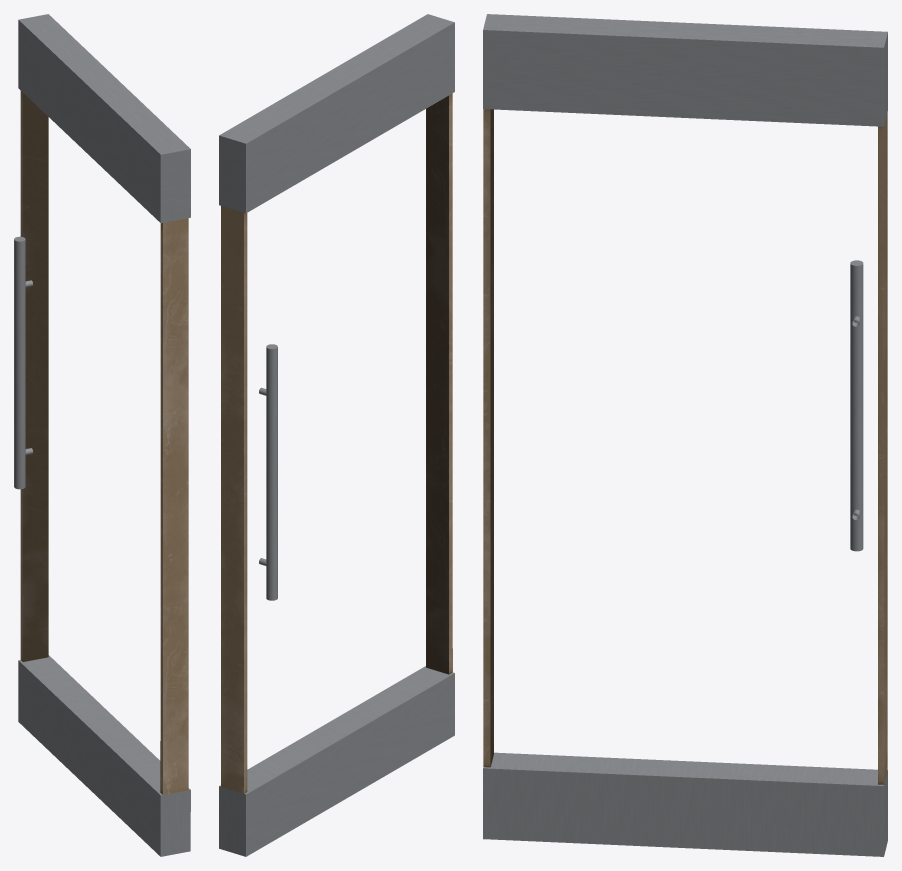
Rendered from SM_105_Door_11_2_5.fbx.
3 views of the same model, side by side, from view 1: azimuth 30°, elevation 25°; view 2: azimuth 150°, elevation 25°; view 3: azimuth 270°, elevation 25° (orthographic). The views are drawn at different scales.
Parts seen in each view (by area): view 1: SM_105_Door_11_2_5; view 2: SM_105_Door_11_2_5; view 3: SM_105_Door_11_2_5.
Part boxes in pixels (x1=…): SM_105_Door_11_2_5: x1=14, y1=14, x2=190, y2=856; SM_105_Door_11_2_5: x1=219, y1=14, x2=454, y2=856; SM_105_Door_11_2_5: x1=483, y1=14, x2=887, y2=856.
Bounding box in the file's own units: 21.72 × 110 × 243.
Materials: 1 (1 with a texture image).
